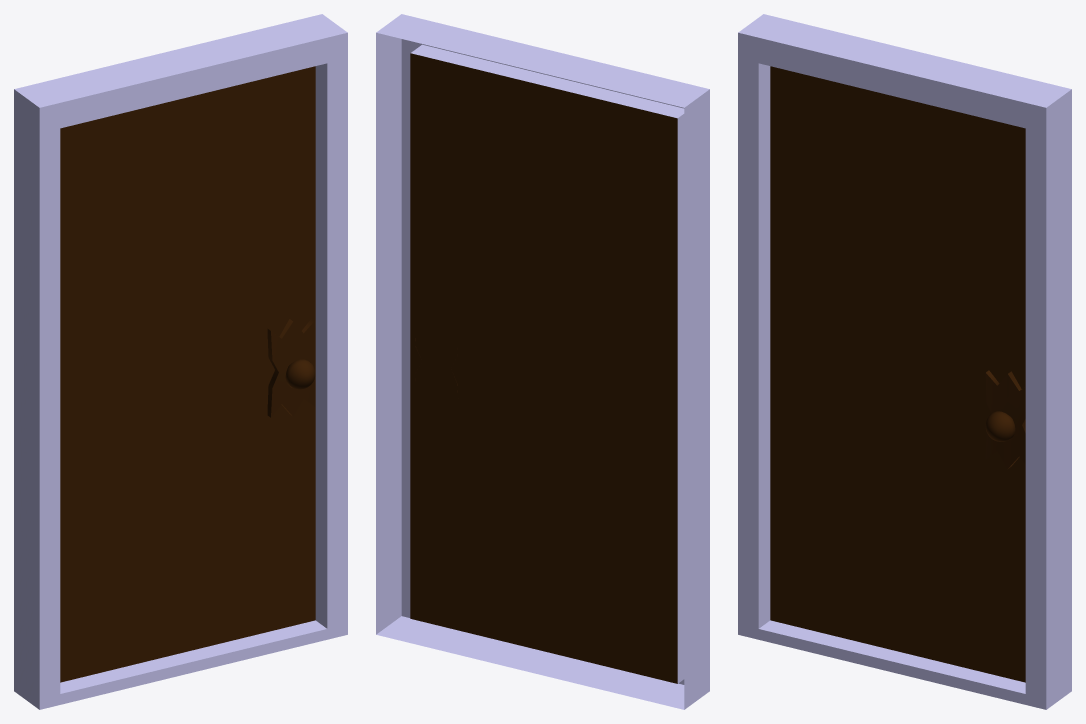
Rendered from Door.fbx.
3 views of the same model, side by side, from view 1: azimuth 30°, elevation 25°; view 2: azimuth 150°, elevation 25°; view 3: azimuth 330°, elevation 25° (orthographic).
Parts seen in each view (by area): view 1: Door2; view 2: Door2; view 3: Door2.
Boxes of the visible parts, left/top/right/bottom form: Door2: left=14, top=14, right=347, bottom=709; Door2: left=376, top=14, right=709, bottom=709; Door2: left=738, top=14, right=1071, bottom=709.
Bounding box in the file's own units: 1.2 × 2.24 × 0.2143.
